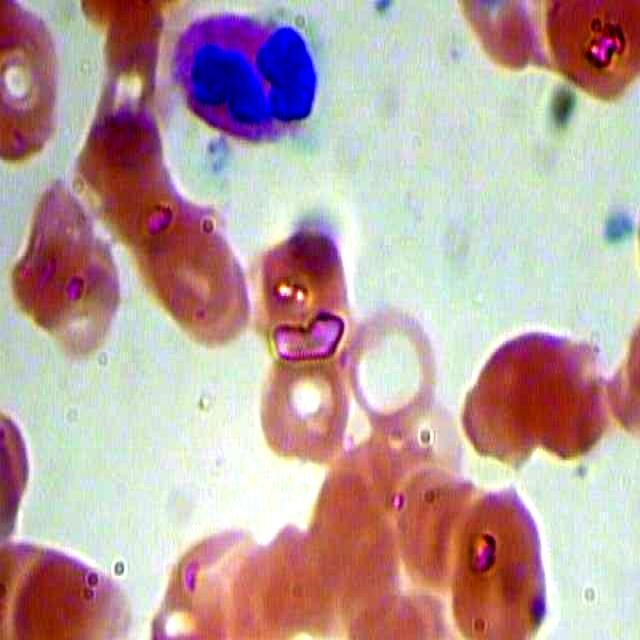RBC: (437, 484, 556, 640), (251, 222, 353, 366), (345, 294, 447, 438), (251, 336, 353, 480), (148, 214, 250, 358), (29, 222, 131, 366), (509, 322, 613, 458), (1, 1, 74, 175), (457, 328, 545, 465), (544, 1, 640, 106)
WBC: (166, 8, 325, 152)
